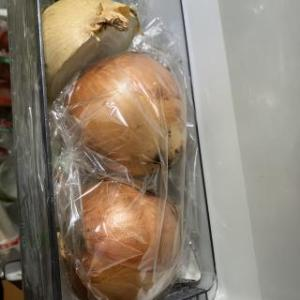onion: (61, 52, 187, 182), (59, 178, 182, 300), (40, 0, 142, 98)
